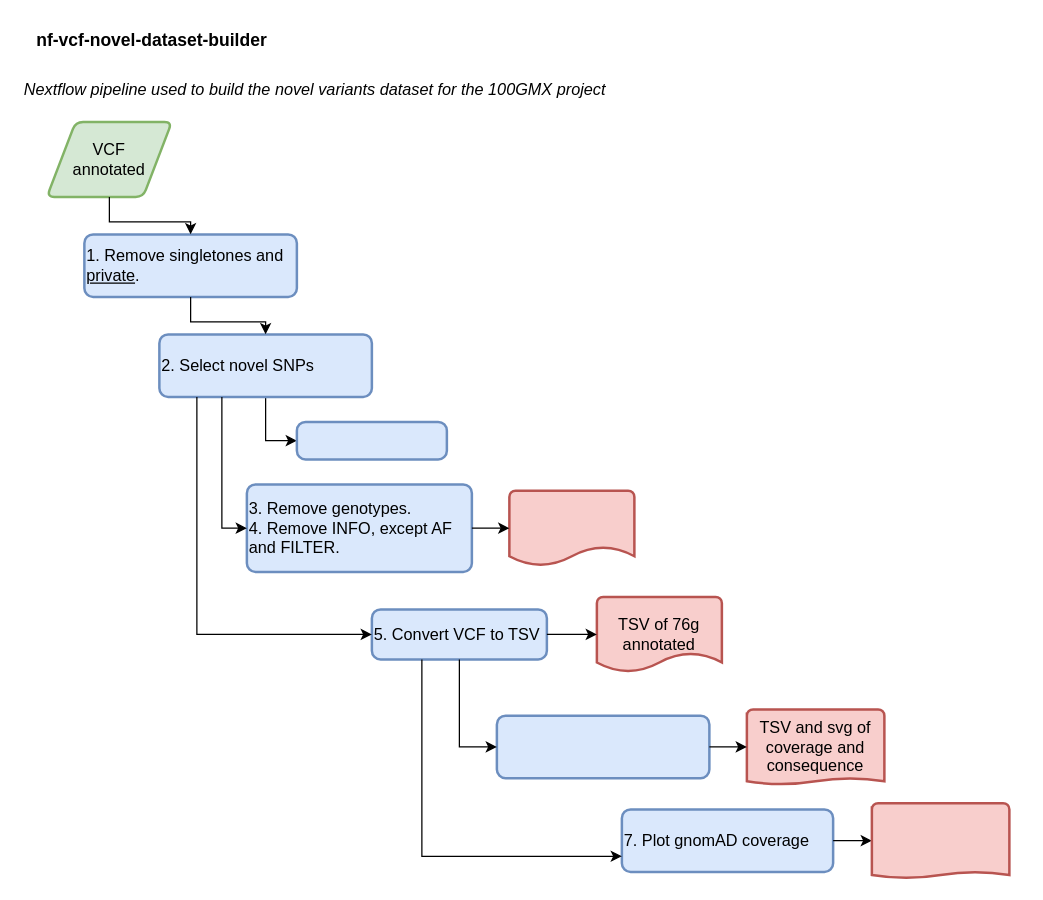
Image size: 1043x900. Some labels were removed from this diagram. The box of each missing label's shape, as (x1, y1, x2, y2) in pixels:
* Count samples: (295, 420, 448, 460)
.tif: (870, 801, 1010, 879)
6. C atalogue consequences for every type of novel variant: (495, 714, 710, 779)
VCF for dbSNP: (508, 489, 635, 566)
